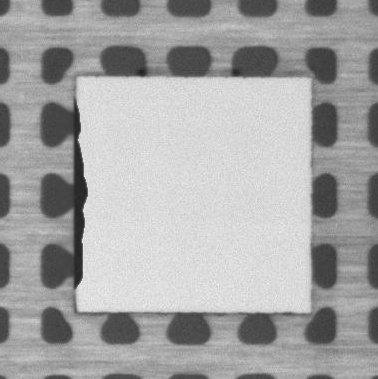DIE_BROKEN: (71, 100, 90, 292)
